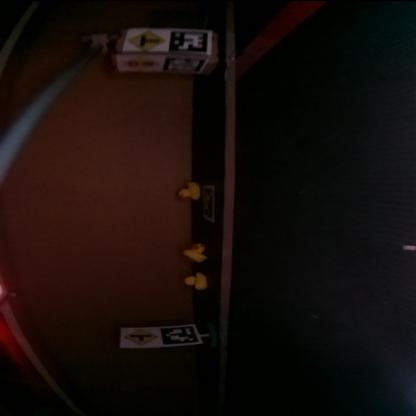Duckie: (183, 243, 205, 261), (178, 181, 198, 199), (184, 273, 204, 289)
Intersection sign: (126, 30, 162, 51), (123, 328, 155, 346)
QR code: (167, 30, 207, 52), (160, 326, 198, 344), (164, 58, 206, 73), (201, 184, 213, 221)
Signal sign: (120, 54, 156, 70)
